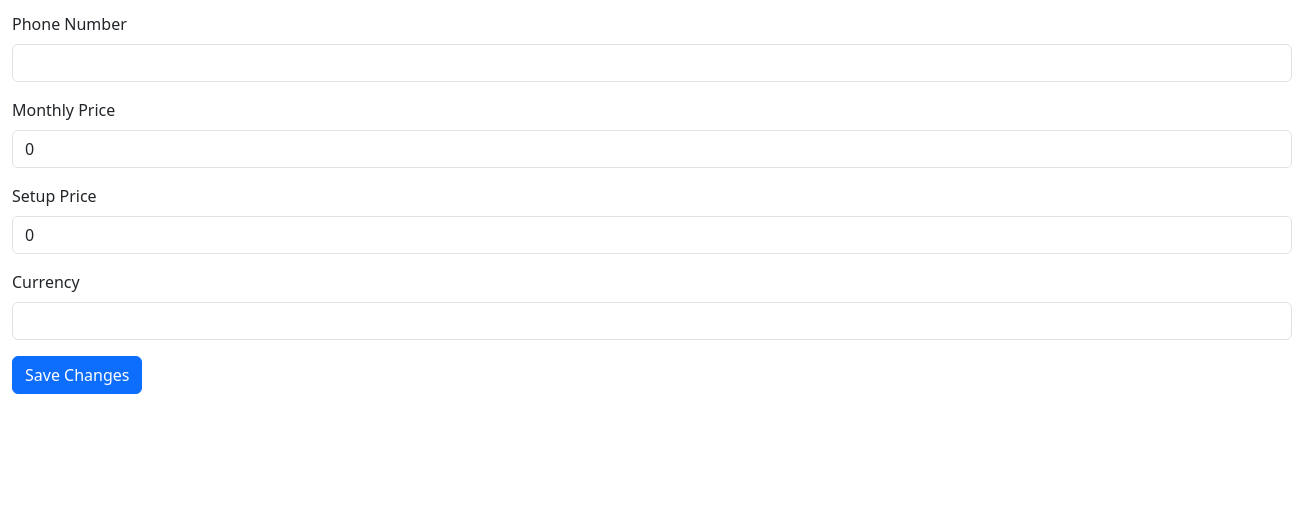
NumberForm › should show validation errors when form data is invalid
The image size is (1304, 511).
Clicar no botão de salvar
Step 1. Click the button "Save Changes" → (77, 375), box [12,356,142,394]
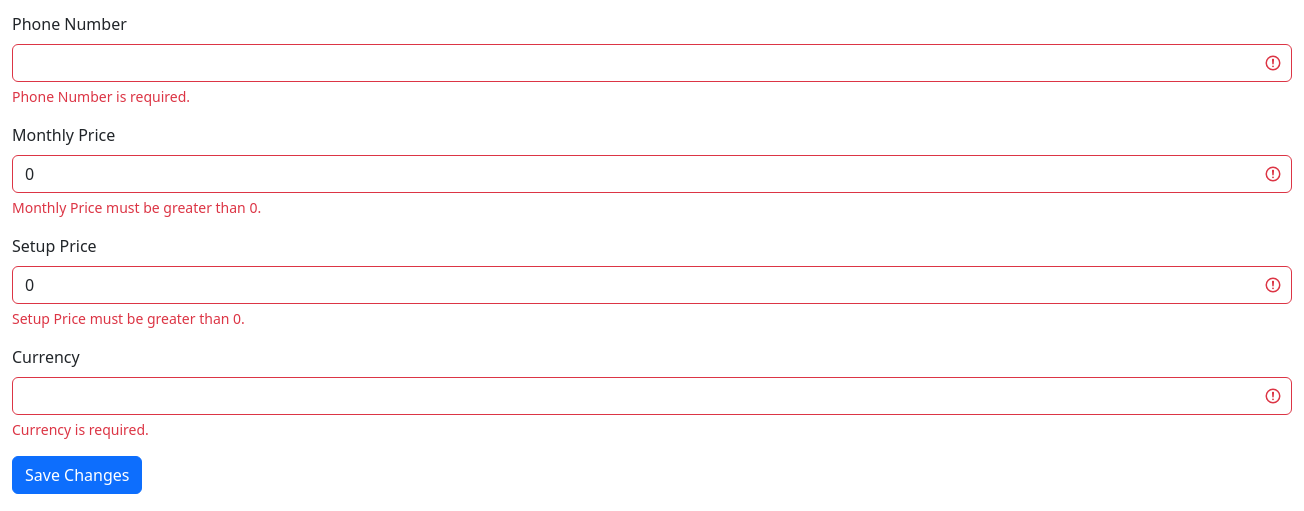
Expected: the text "Phone Number is required." is shown, [12,87,190,106]
Expected: the text "Monthly Price must be greater than 0." is shown, [12,198,261,217]
Expected: the text "Setup Price must be greater than 0." is shown, [12,309,245,328]
